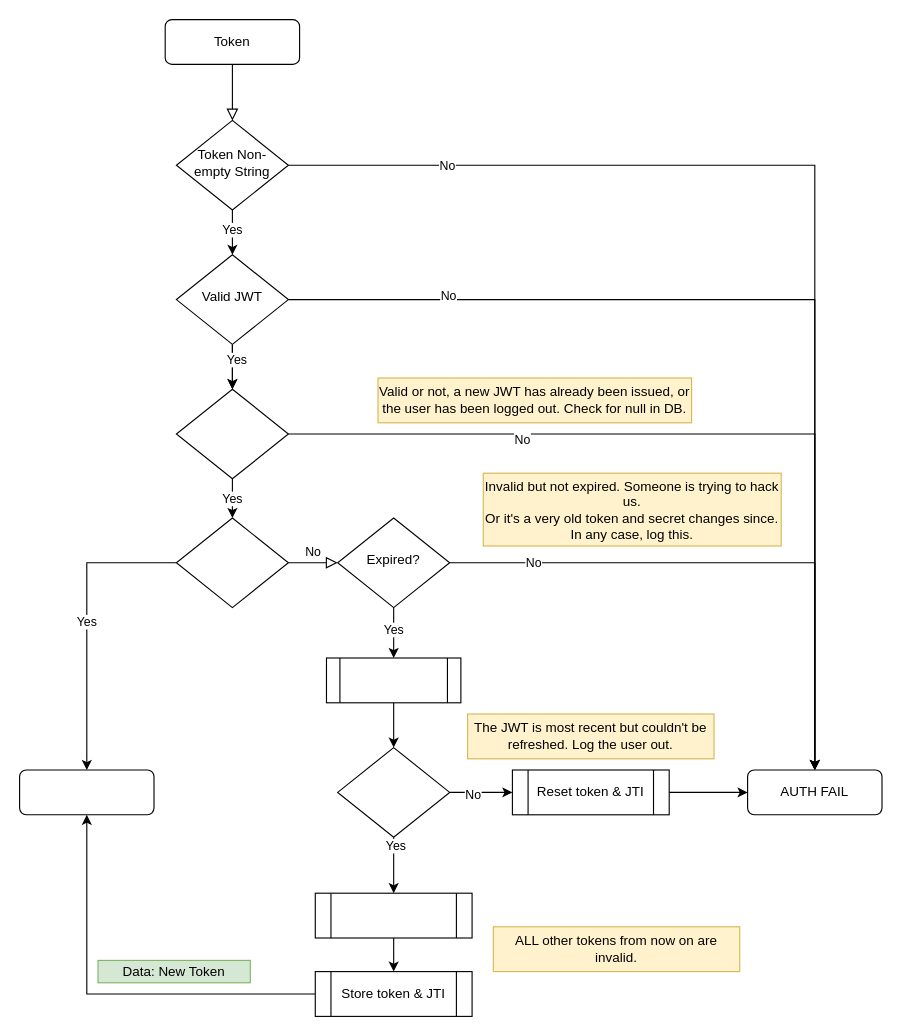
Some shapes in this 902 by 1036 pixel diagram are drawn without their labels. Here are the shapes that lost their labels. From the top down, the centre of each, then its label:
At [231,433]: "Decoded JTI match stored".
At [231,562]: "Pass JWT Validatiaon".
At [393,680]: "Refresh Token".
At [86,792]: "AUTH SUCCESS".
At [393,791]: "Refresh Successful?".
At [393,915]: "Generate new JTI".
